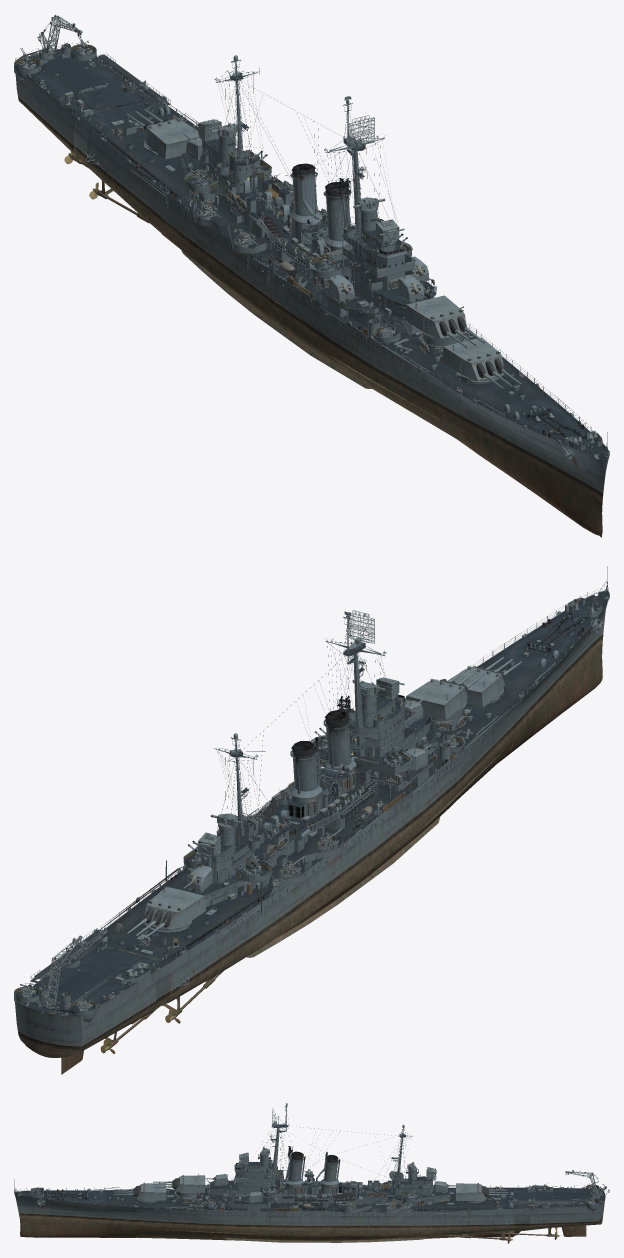
The model's file is uss_wichita_wows-maximum-compressed.glb.
3 views of the same model, one above another, from view 1: azimuth 30°, elevation 25°; view 2: azimuth 150°, elevation 25°; view 3: azimuth 270°, elevation 25° (orthographic). The views are drawn at different scales.
Parts seen in each view (by area): view 1: Object_24, Object_101, Object_40, Object_2, Object_82, Object_25, Object_41, Object_23, Object_69, Object_102, Object_31, Object_49 (+3 smaller); view 2: Object_24, Object_101, Object_2, Object_40, Object_82, Object_25, Object_23, Object_69, Object_41, Object_102, Object_31, Object_49 (+2 smaller); view 3: Object_24, Object_101, Object_40, Object_2, Object_25, Object_82, Object_41, Object_23, Object_69, Object_102, Object_31, Object_49 (+6 smaller).
Part boxes in pixels (left/top/right/bottom): Object_24: left=224, top=103, right=527, bottom=453; Object_101: left=85, top=61, right=293, bottom=271; Object_40: left=469, top=381, right=609, bottom=537; Object_2: left=14, top=35, right=144, bottom=164; Object_82: left=126, top=108, right=522, bottom=389; Object_25: left=191, top=103, right=352, bottom=314; Object_41: left=457, top=375, right=548, bottom=474; Object_23: left=342, top=211, right=416, bottom=290; Object_69: left=223, top=103, right=527, bottom=393; Object_102: left=75, top=60, right=242, bottom=168; Object_31: left=76, top=60, right=291, bottom=212; Object_49: left=93, top=53, right=170, bottom=107; Object_24: left=247, top=616, right=527, bottom=904; Object_101: left=94, top=739, right=312, bottom=1024; Object_2: left=14, top=955, right=160, bottom=1074; Object_40: left=473, top=567, right=609, bottom=737; Object_82: left=126, top=657, right=521, bottom=938; Object_25: left=254, top=617, right=349, bottom=942; Object_23: left=345, top=694, right=416, bottom=761; Object_69: left=255, top=617, right=527, bottom=861; Object_41: left=476, top=658, right=548, bottom=758; Object_102: left=86, top=740, right=242, bottom=1040; Object_31: left=100, top=738, right=289, bottom=965; Object_49: left=30, top=928, right=106, bottom=984; Object_24: left=135, top=1106, right=372, bottom=1242; Object_101: left=365, top=1129, right=522, bottom=1240; Object_40: left=14, top=1180, right=127, bottom=1237; Object_2: left=522, top=1184, right=608, bottom=1236; Object_25: left=307, top=1176, right=401, bottom=1242; Object_82: left=114, top=1173, right=508, bottom=1201; Object_41: left=107, top=1190, right=136, bottom=1237; Object_23: left=234, top=1155, right=282, bottom=1189; Object_69: left=132, top=1107, right=367, bottom=1219; Object_102: left=397, top=1139, right=546, bottom=1235; Object_31: left=365, top=1128, right=519, bottom=1217; Object_49: left=511, top=1197, right=579, bottom=1206.
Bounding box in the file's own units: 1.36 × 3.07 × 12.46.
85 materials, 84 textured.
